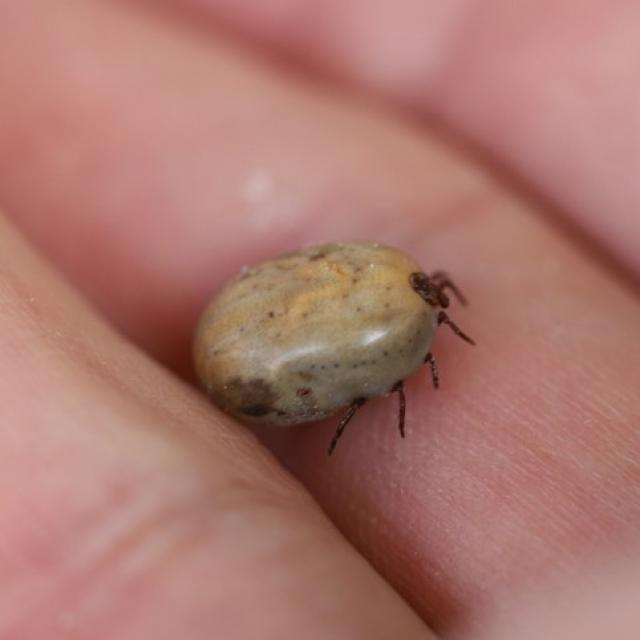Dermacentor Reticulatus-F-Fed: (193, 242, 478, 456)
